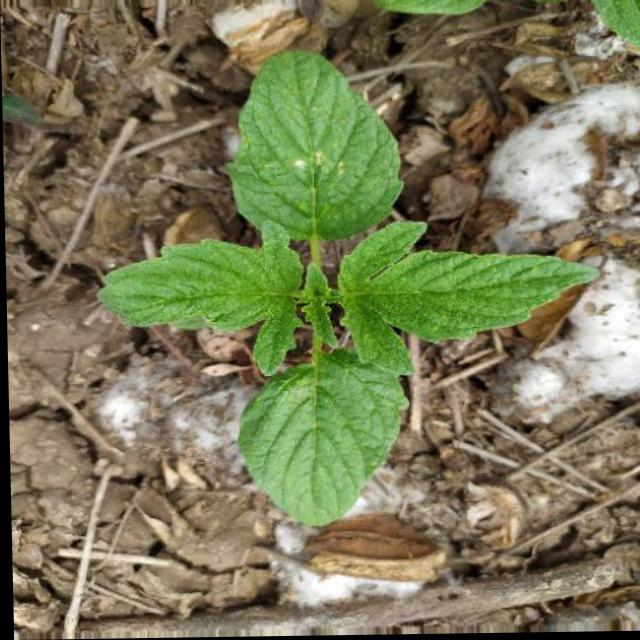crop: (81, 45, 601, 519)
